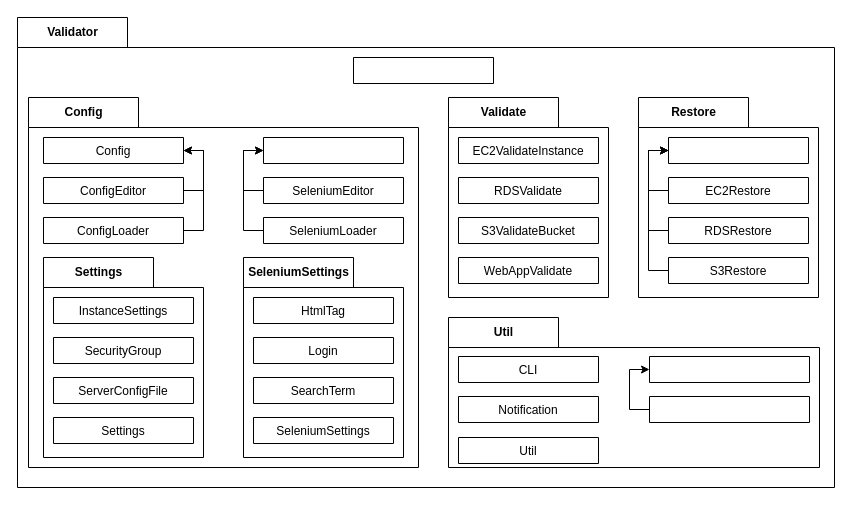
This 852x505 diagram has some shape labels left out. Each missing label, with the centre of its shape:
"AWSRestore" belongs at pixel 738 150.
"BackupValidator" belongs at pixel 423 70.
"RemoteServerConfigurator" belongs at pixel 729 409.
"RemoteServerConnection" belongs at pixel 729 369.
"Selenium" belongs at pixel 333 150.
